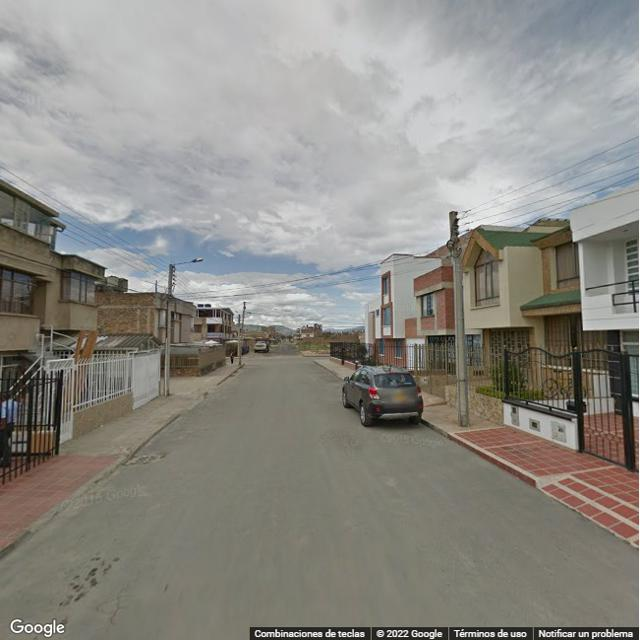D00: (112, 573, 130, 626), (169, 500, 188, 543)
